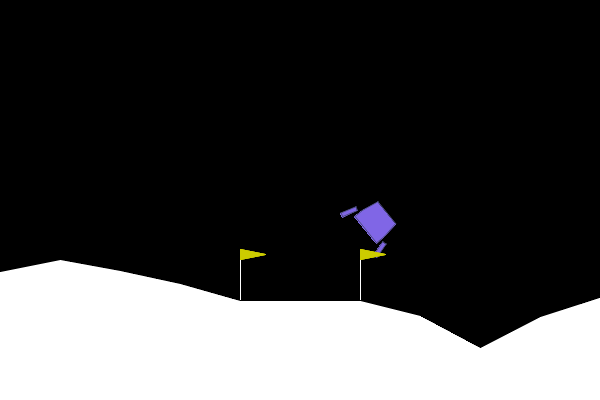lander: (338, 188, 407, 260)
